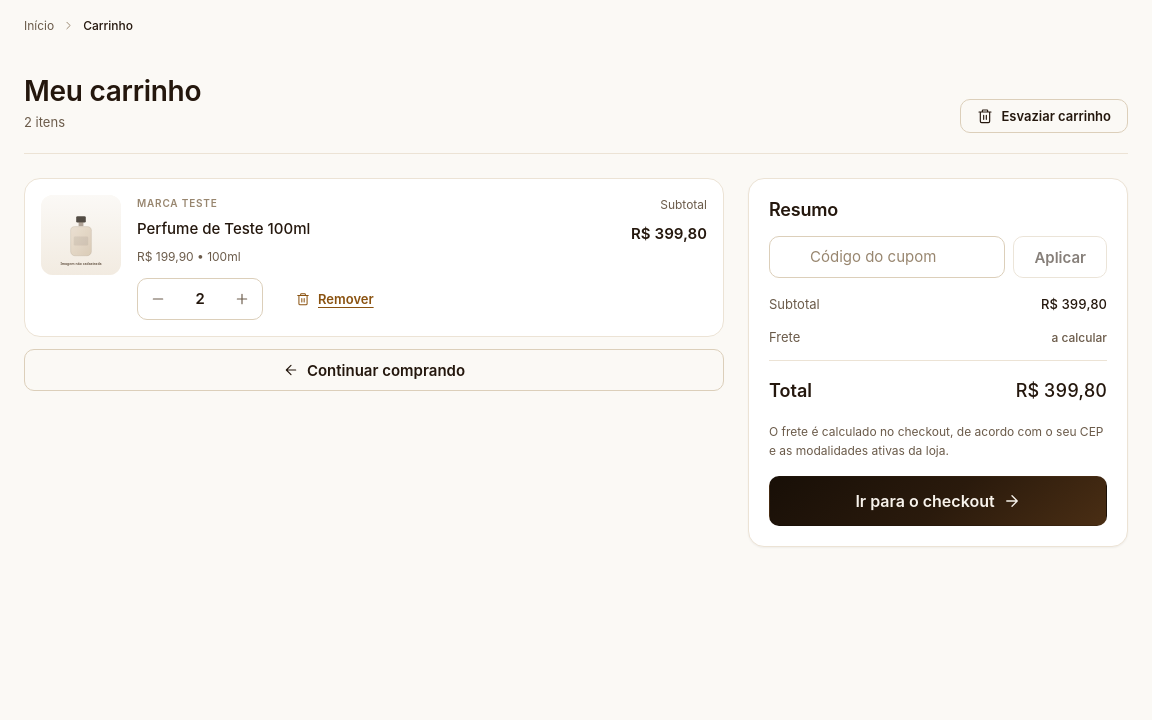
it: Carrinho › mostra a mensagem do backend quando o cupom é inválido
Expected: the button "Aplicar" is shown, [1013,236,1107,278]
Step 1. Type "NAOEXISTE" into the field labelled "Código do cupom" → {"x": 887, "y": 257}, box [769,236,1005,278]
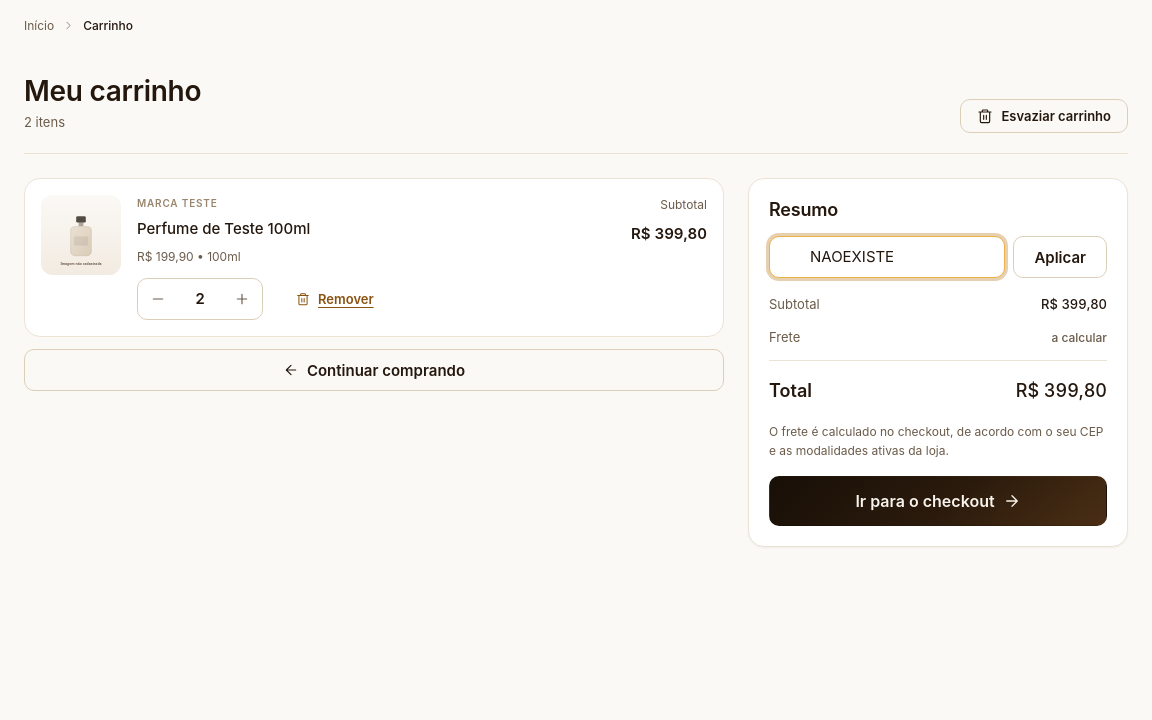
Step 2. Click the button "Aplicar" → {"x": 1060, "y": 257}, box [1013,236,1107,278]
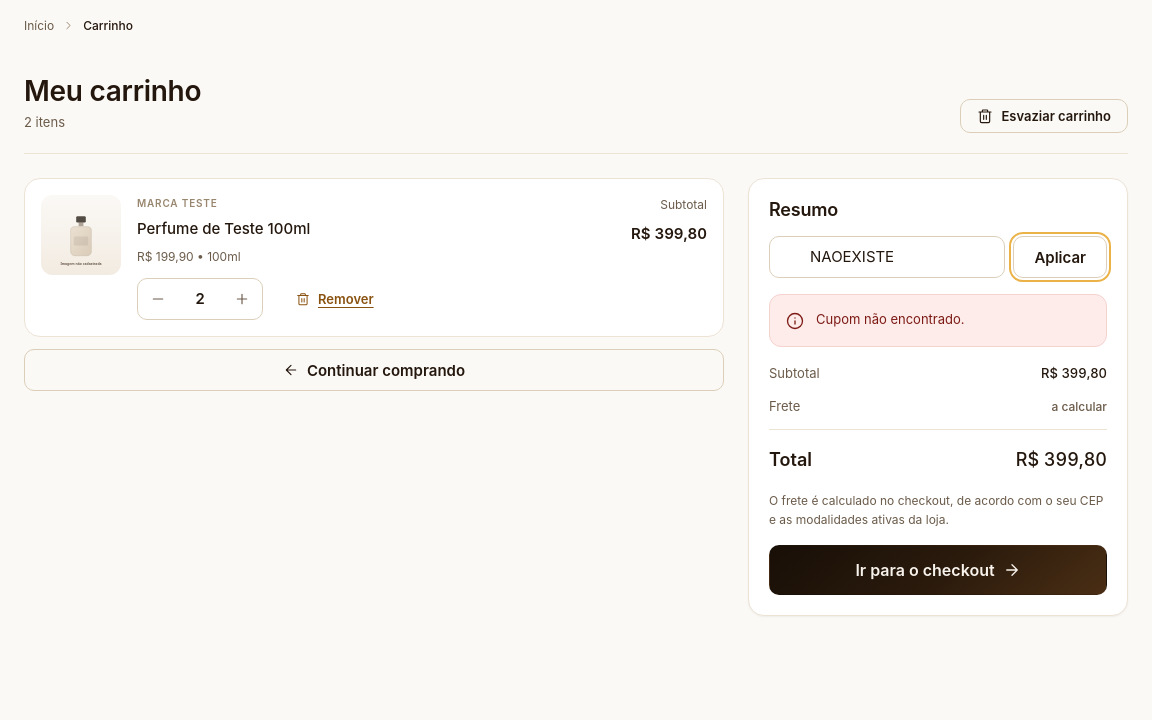
Expected: the text "Cupom não encontrado." is shown, [816,311,964,330]
